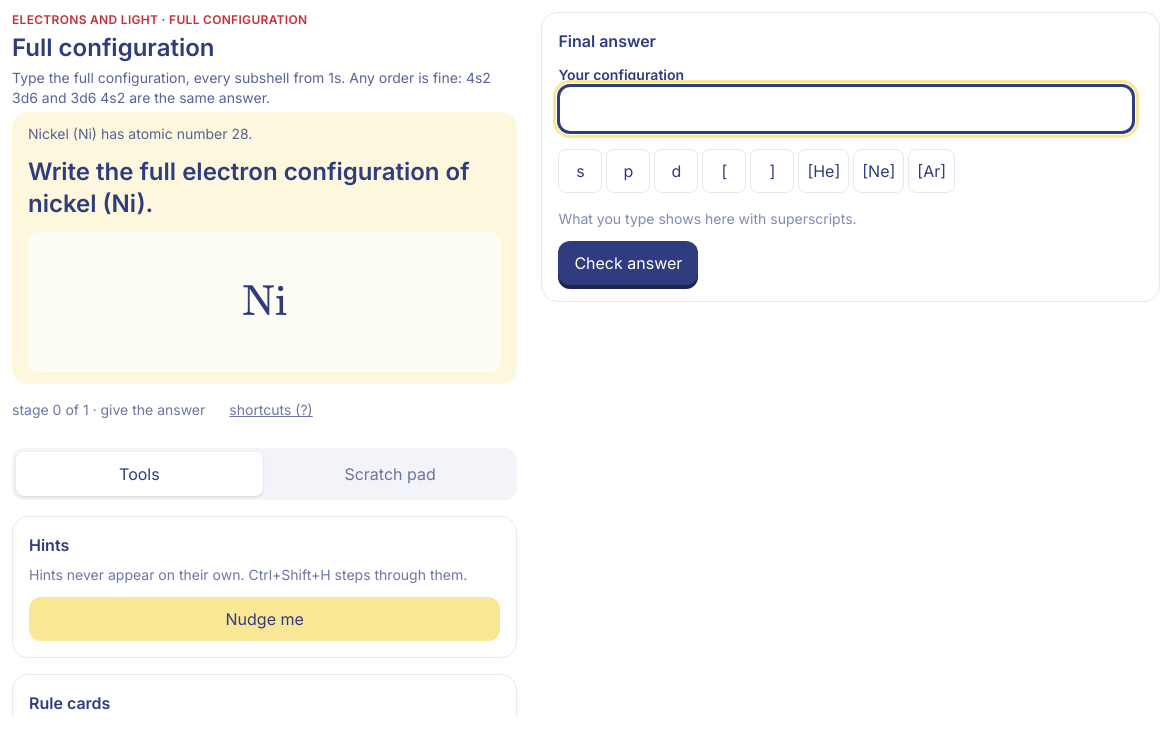
Test: ElectronFlow: a configuration › an unreadable configuration records no wrong attempt
Step 1. Type "1s2 2s" into the field labelled "Your configuration" → (846, 109), box [558,85,1134,133]
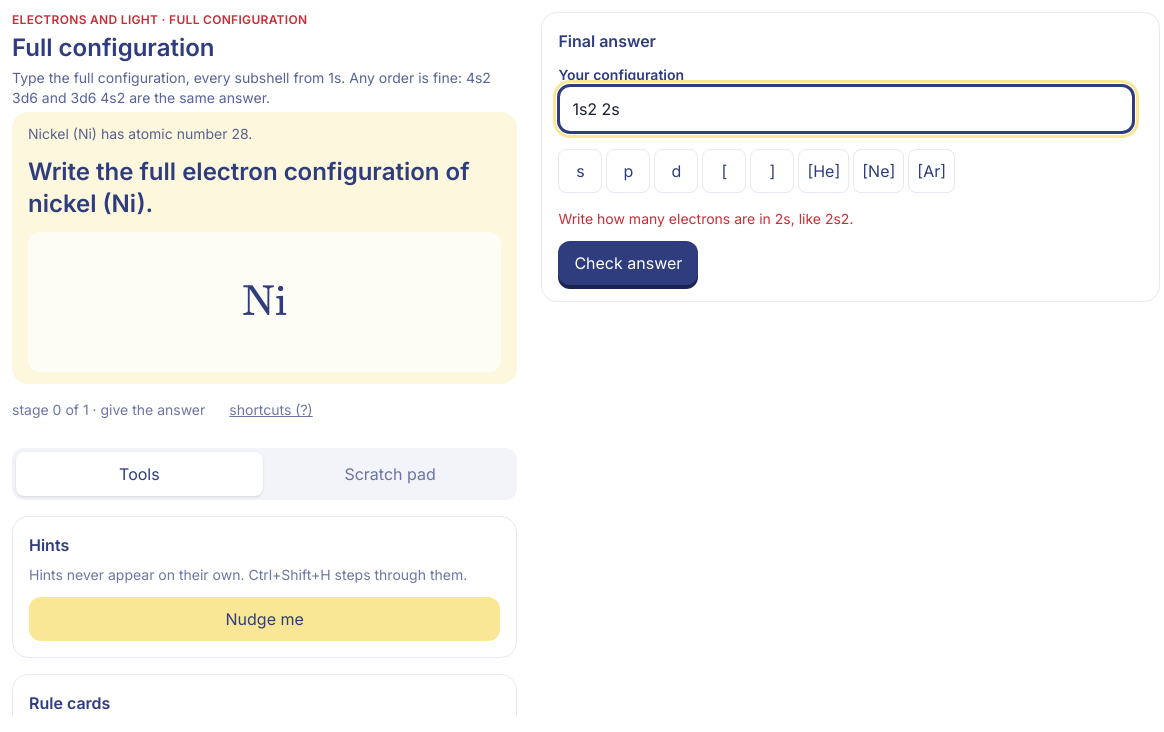
Expected: the text "Write how many electrons are in 2s, like 2s2." is shown, [558,210,853,227]
Step 2. Click the button "Check answer" → click(628, 263), box [558,241,698,285]
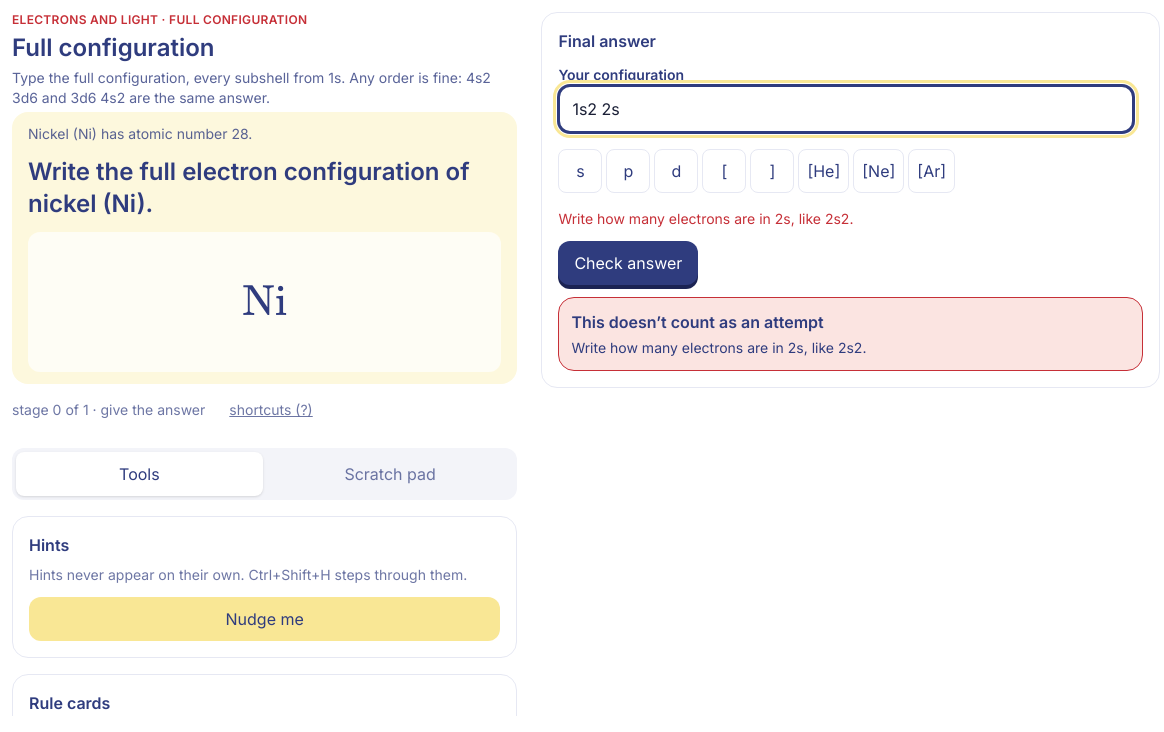
Expected: the message shows "This doesn’t count as an attempt", [571,312,824,332]
Expected: the message shows "Write how many electrons are in 2s", [571,339,866,356]
